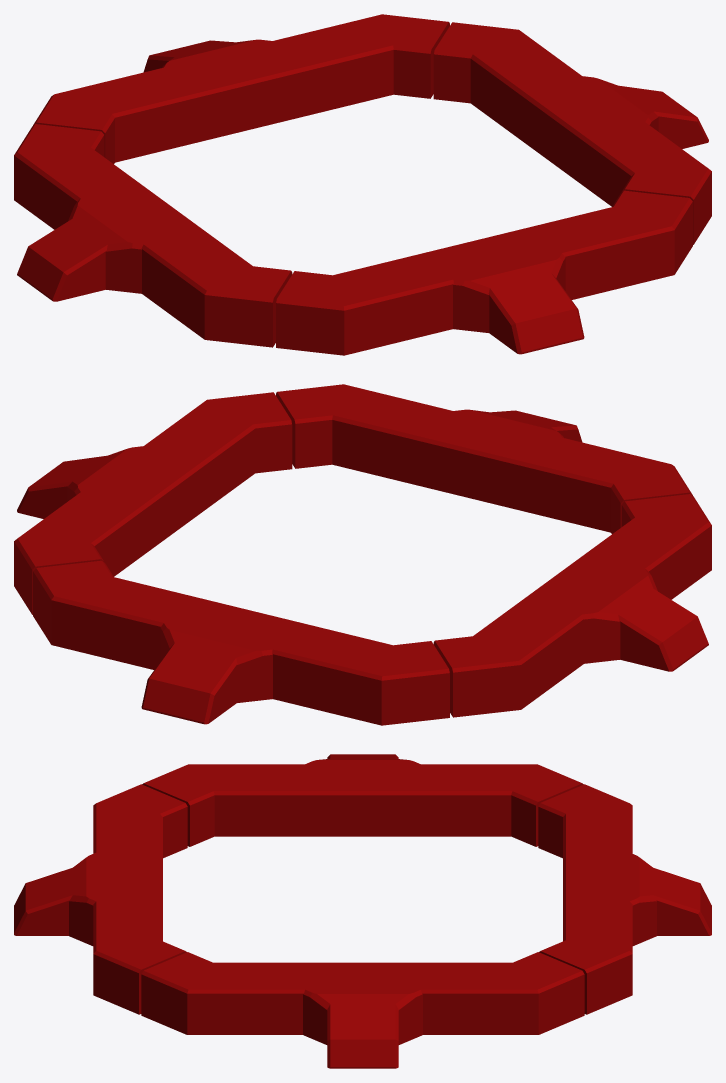
File: lid_cover_red.dae
3 renders of one model, top to bottom at view 1: azimuth 30°, elevation 25°; view 2: azimuth 150°, elevation 25°; view 3: azimuth 270°, elevation 25°, orthographic. The views are drawn at different scales.
Visible parts, largest first — view 1: PlasticLidCover.001; view 2: PlasticLidCover.001; view 3: PlasticLidCover.001.
Part boxes in pixels (bbox=[...]): PlasticLidCover.001: bbox=[14, 14, 711, 355]; PlasticLidCover.001: bbox=[14, 384, 711, 725]; PlasticLidCover.001: bbox=[14, 754, 711, 1068].
Bounding box in the file's own units: 0.2294 × 0.2294 × 0.016.
